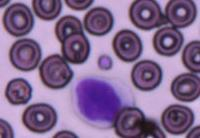L: (69, 72, 132, 128)
